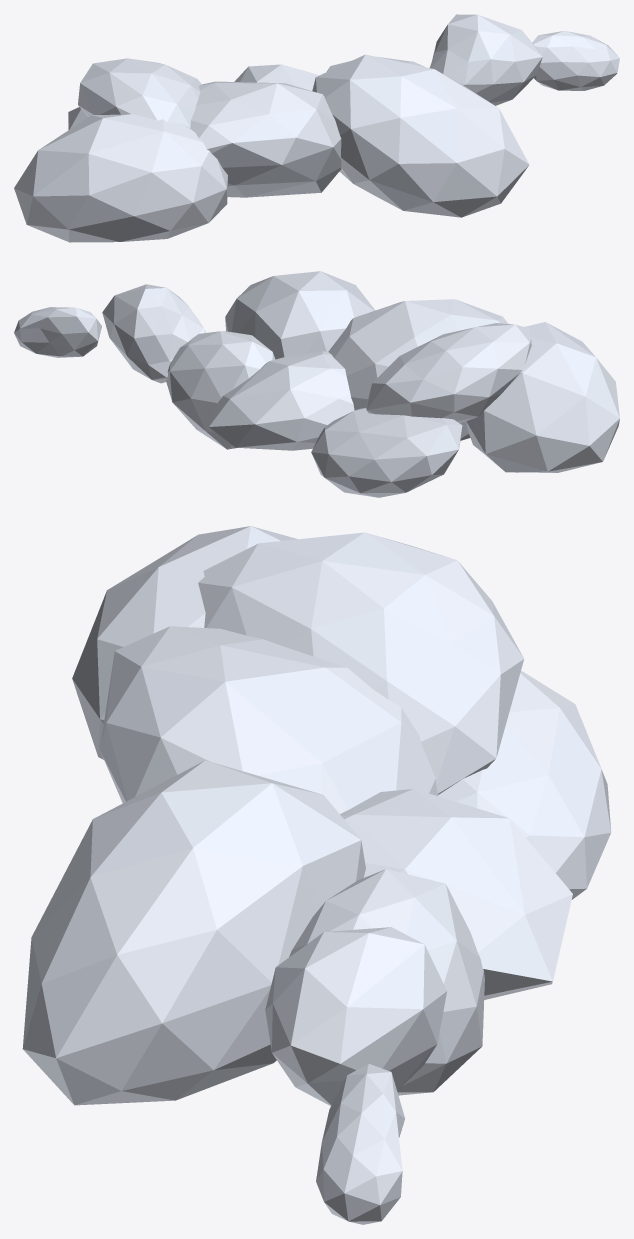
Rendered from Cloud2.fbx.
3 renders of one model, top to bottom at view 1: azimuth 30°, elevation 25°; view 2: azimuth 150°, elevation 25°; view 3: azimuth 270°, elevation 25°, orthographic. The views are drawn at different scales.
Parts seen in each view (by area): view 1: Cloud2; view 2: Cloud2; view 3: Cloud2.
Part boxes in pixels (x1,y1,x2,y2): Cloud2: [14, 14, 619, 242]; Cloud2: [14, 271, 619, 497]; Cloud2: [22, 526, 611, 1224].
Size of the model in its own units: 410 by 925 by 235.
